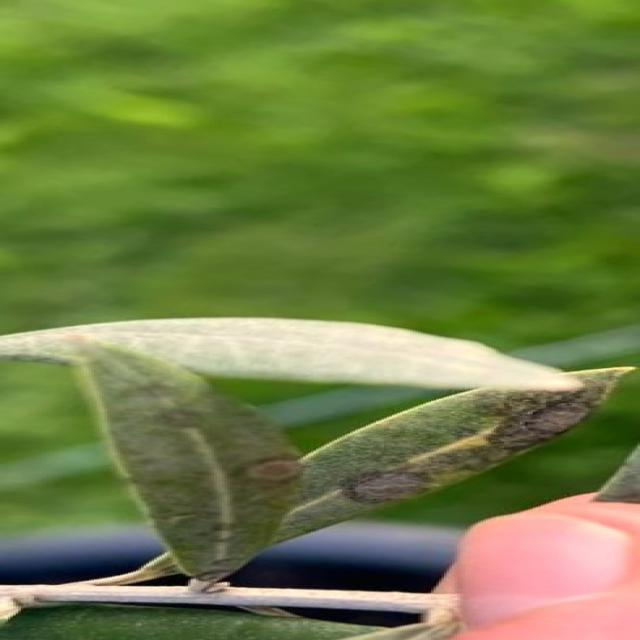Peacock Eye: (274, 367, 632, 541), (78, 344, 298, 592)
